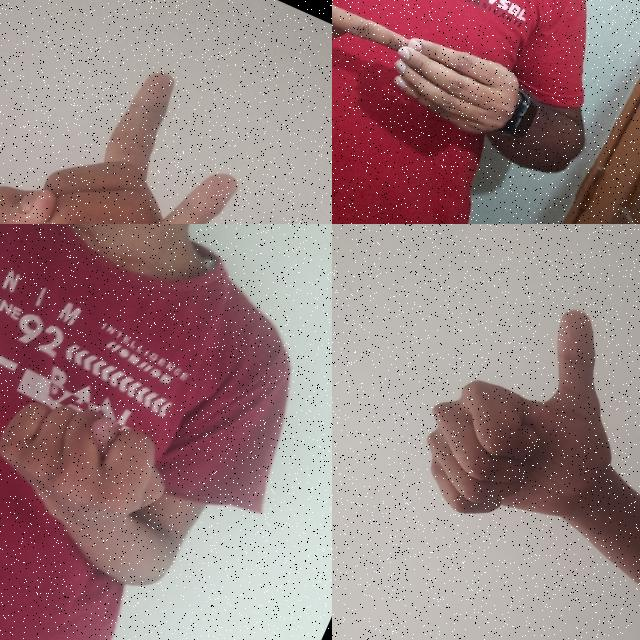Corna: (0, 23, 274, 224)
Dulya: (0, 372, 201, 569)
Five Fathers: (332, 0, 561, 179)
Thumbs Up: (388, 263, 640, 576)
